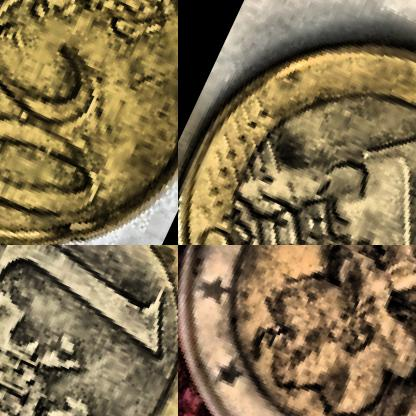coin: (178, 0, 415, 244), (0, 0, 177, 244), (178, 245, 415, 415), (0, 245, 177, 415)
